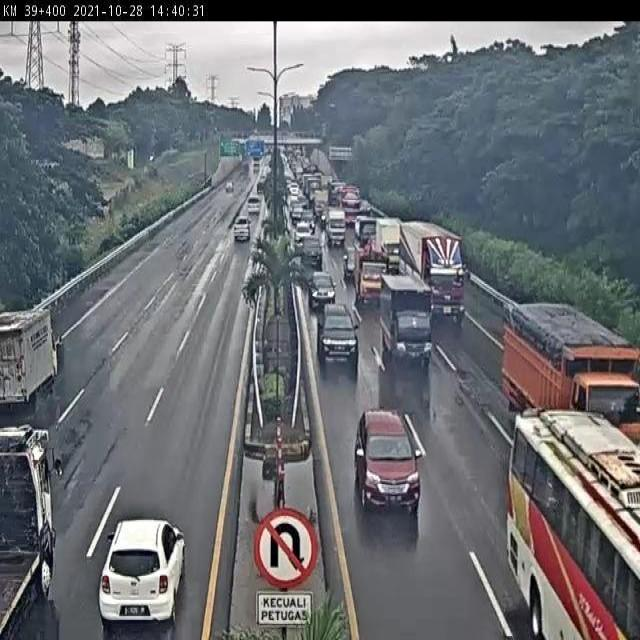ARABA: (100, 520, 187, 620), (355, 411, 417, 506), (316, 296, 356, 357), (306, 262, 335, 306), (297, 236, 320, 268)
KAMYONET: (502, 301, 635, 447), (0, 308, 58, 407), (379, 273, 428, 359), (354, 251, 386, 304), (376, 211, 402, 273)
OTOBUS: (511, 413, 640, 640)
TIR: (394, 219, 460, 316)
